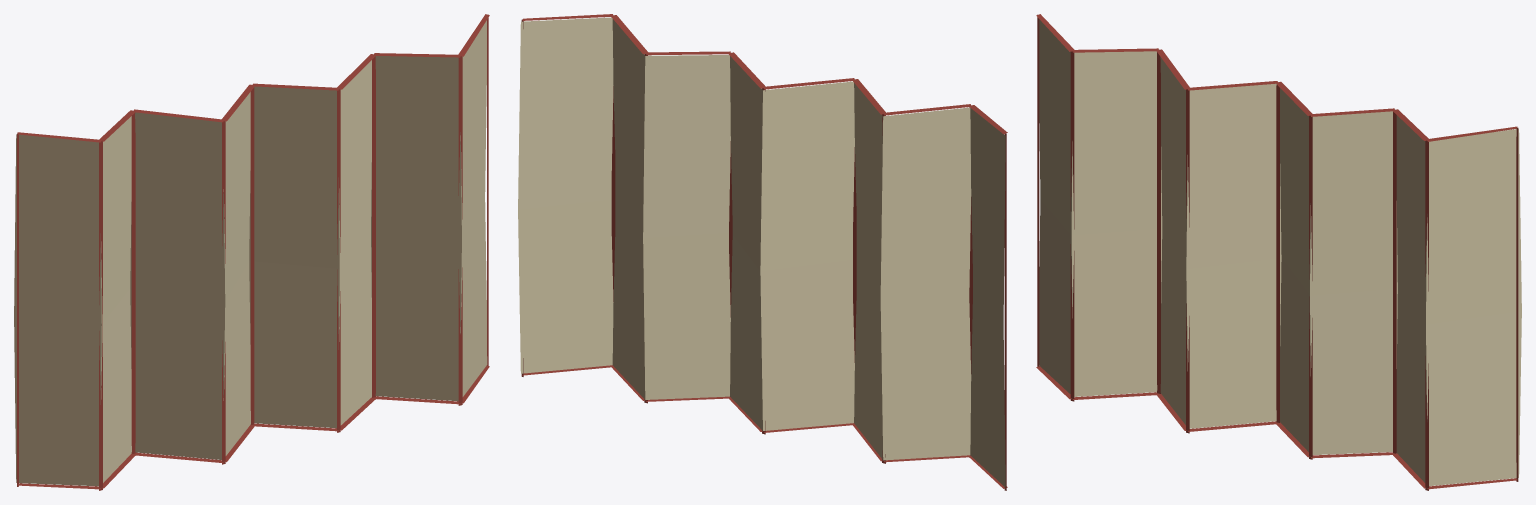
The model's file is tent wall.glb.
The picture shows the model from 3 angles, left to right: view 1: azimuth 30°, elevation 25°; view 2: azimuth 150°, elevation 25°; view 3: azimuth 330°, elevation 25°; orthographic projection.
Parts seen in each view (by area): view 1: EQ_OpenTent_ZigWall_Run_1x2_canvas_edge_two_tile_folded_canv; view 2: EQ_OpenTent_ZigWall_Run_1x2_canvas_edge_two_tile_folded_canv; view 3: EQ_OpenTent_ZigWall_Run_1x2_canvas_edge_two_tile_folded_canv.
Boxes of the visible parts, <box> form: EQ_OpenTent_ZigWall_Run_1x2_canvas_edge_two_tile_folded_canv: <box>14,14,489,490</box>; EQ_OpenTent_ZigWall_Run_1x2_canvas_edge_two_tile_folded_canv: <box>518,14,1007,490</box>; EQ_OpenTent_ZigWall_Run_1x2_canvas_edge_two_tile_folded_canv: <box>1036,14,1521,490</box>.
Bounding box in the file's own units: 2 × 1.42 × 0.2737.
